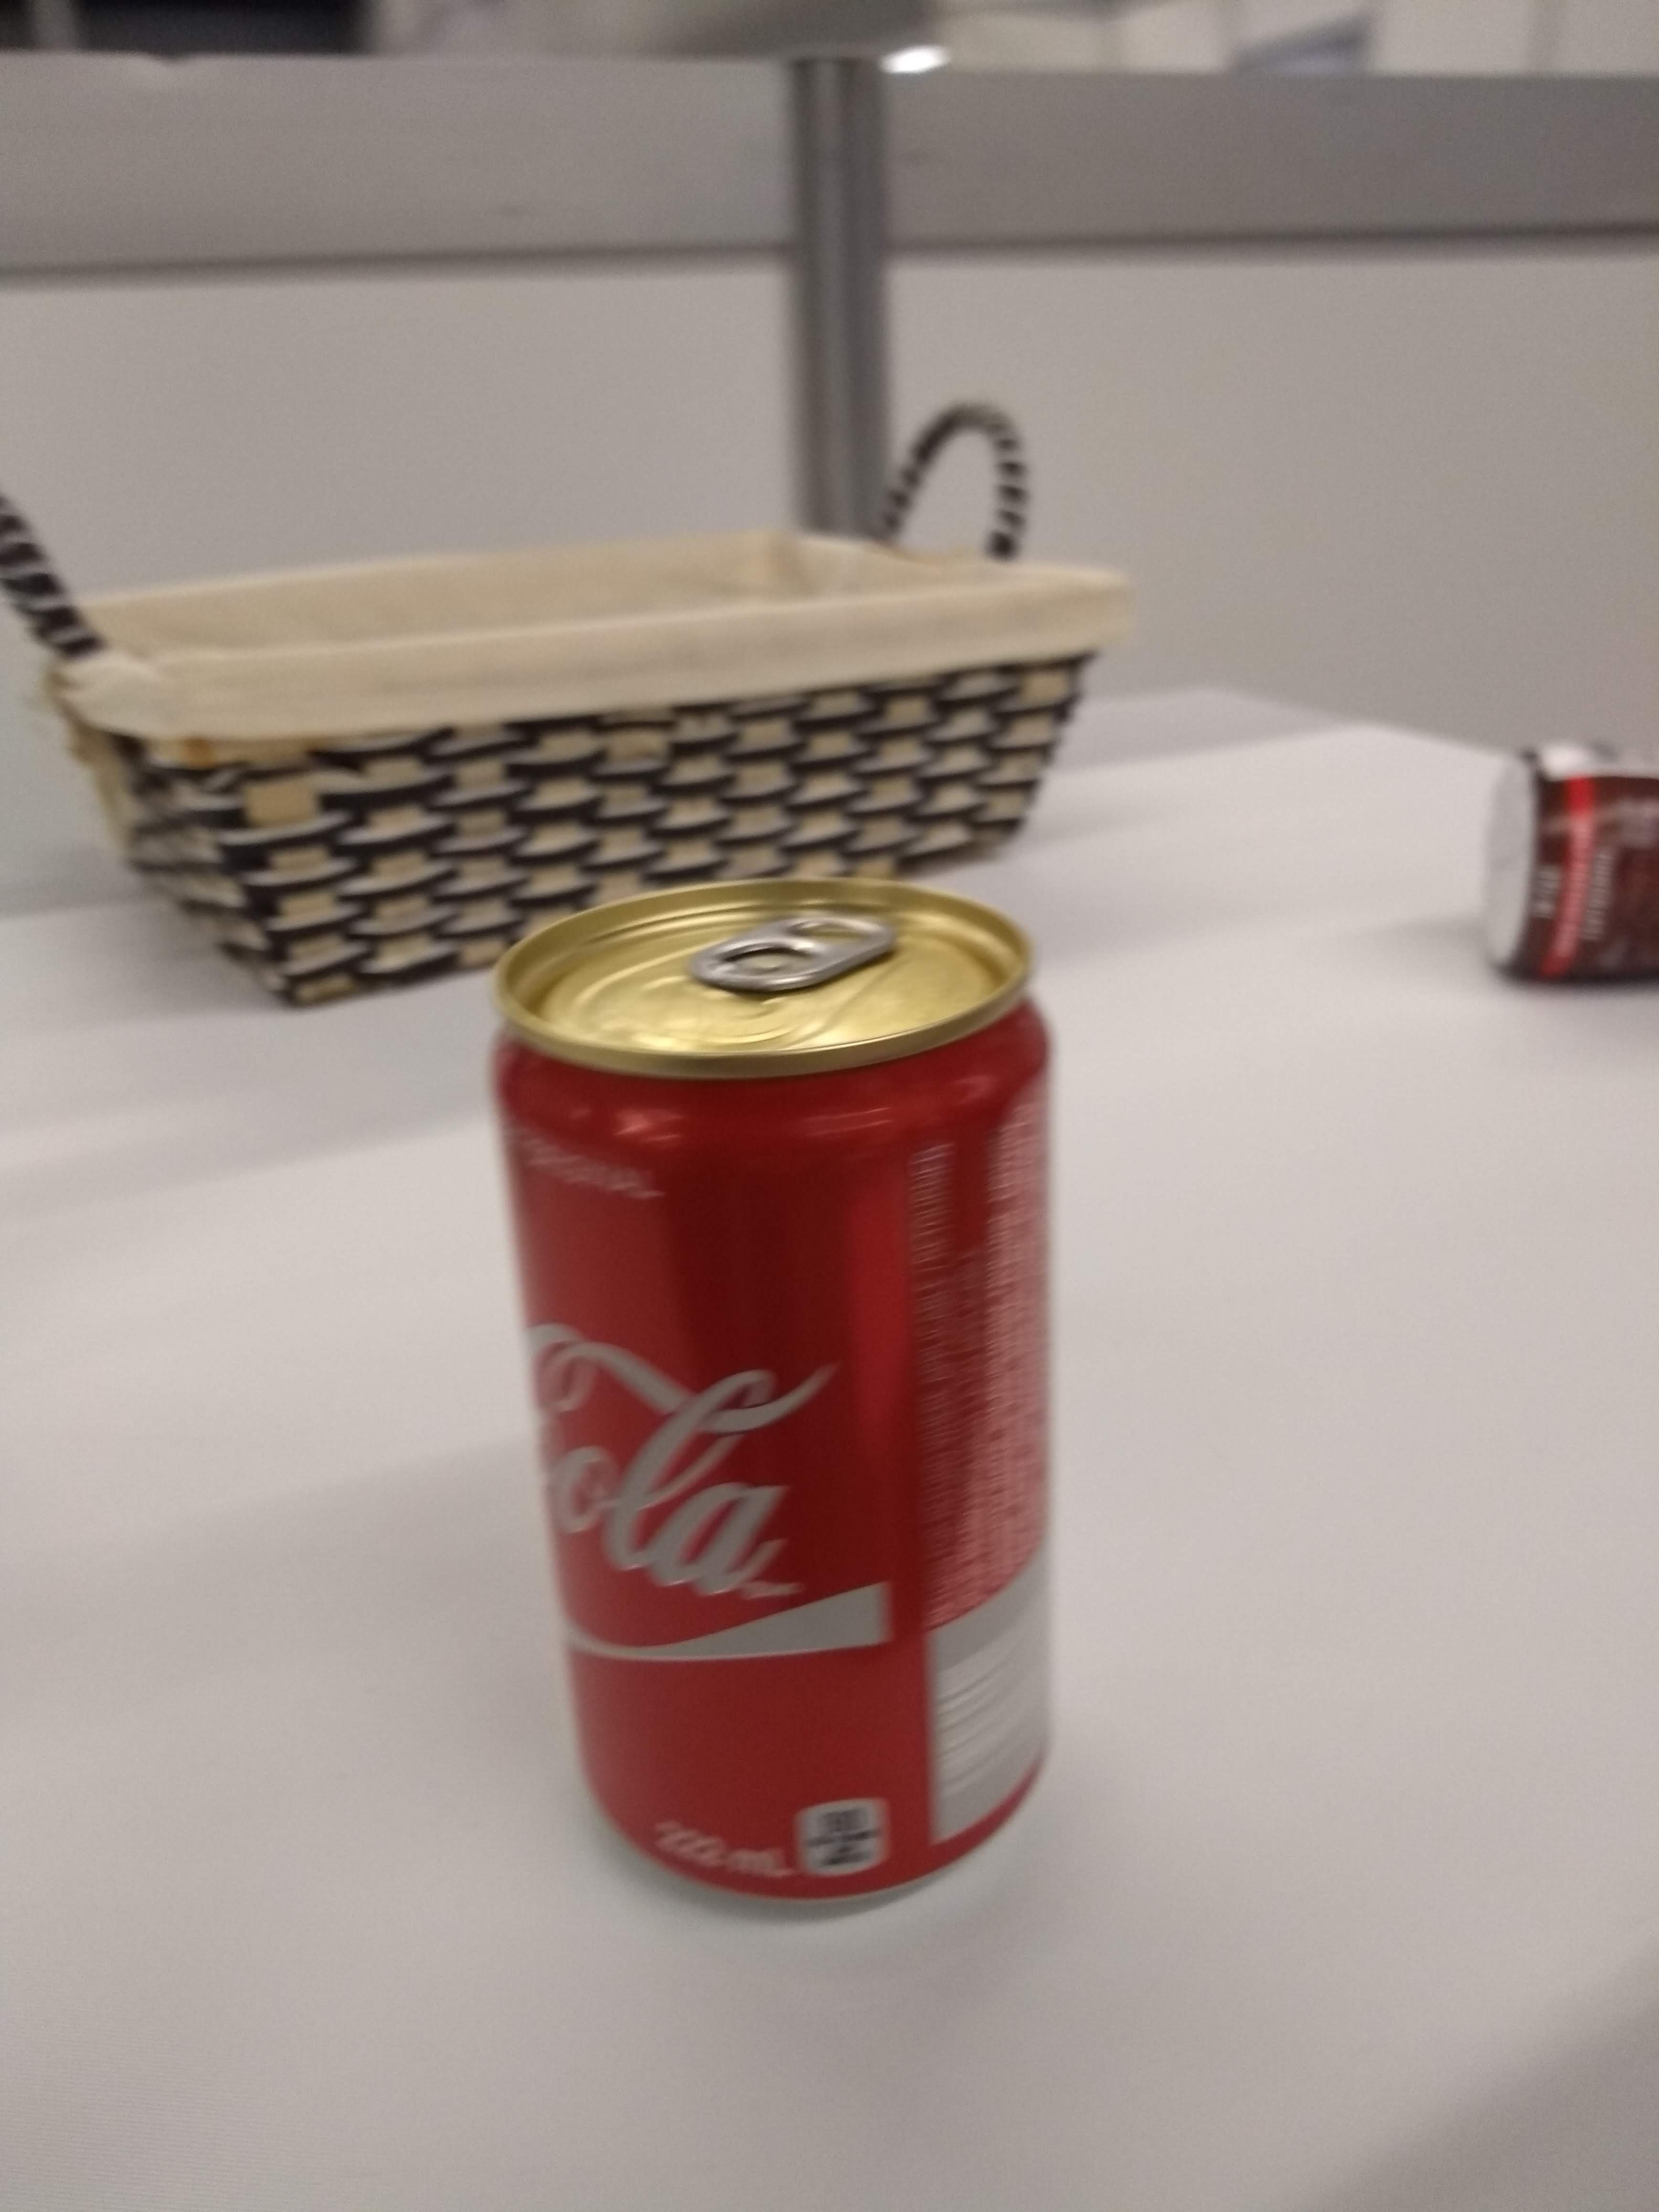basket: (0, 392, 1138, 1015)
coke: (476, 887, 1087, 1937)
